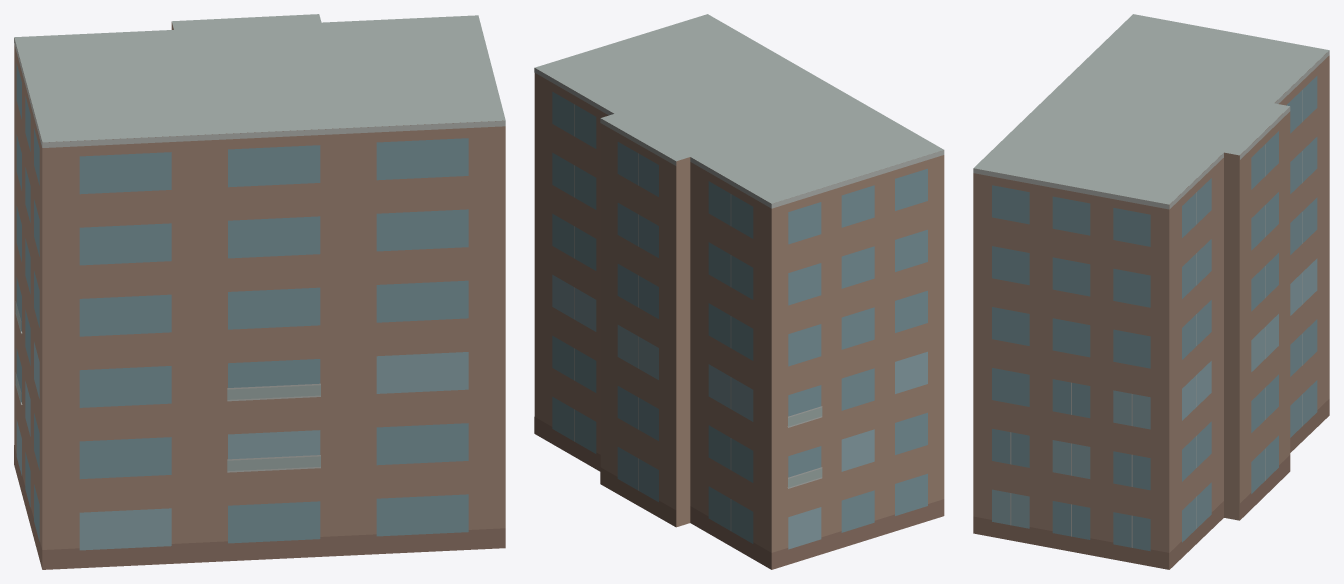
The model's file is survey-upis-32565152.glb.
3 renders of one model, left to right at view 1: azimuth 30°, elevation 25°; view 2: azimuth 150°, elevation 25°; view 3: azimuth 270°, elevation 25°, orthographic. The views are drawn at different scales.
Visible parts, largest first — view 1: survey-upis-32565152.tmp; view 2: survey-upis-32565152.tmp; view 3: survey-upis-32565152.tmp.
Part boxes in pixels (x1,y1,x2,y2): survey-upis-32565152.tmp: (14, 14, 505, 569); survey-upis-32565152.tmp: (534, 14, 944, 569); survey-upis-32565152.tmp: (973, 14, 1329, 569).
Bounding box in the file's own units: 20.5 × 18.3 × 16.18.
